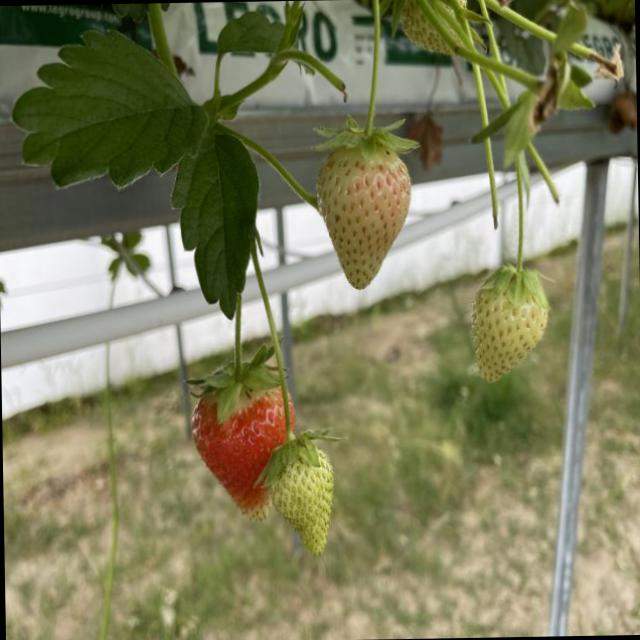stem: (251, 240, 318, 484), (313, 0, 415, 157), (189, 295, 279, 423), (480, 157, 545, 303)
strawberryNR: (314, 148, 407, 285), (470, 291, 546, 380), (271, 452, 332, 554)
strawberryR: (194, 387, 282, 518)
